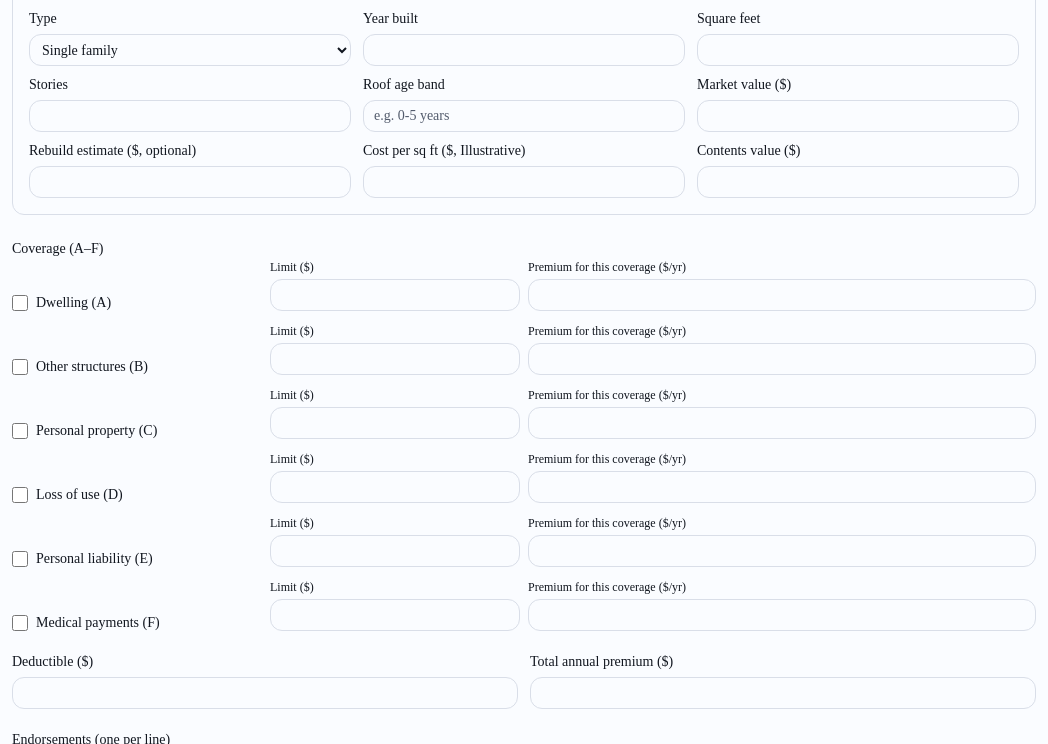
Test: HomeProfile › shows the market-value-vs-rebuild-cost note, hedged as a question for a professional (HOM-2)
In the number field labelled "Market value ($)": (858, 116) [697, 100, 1019, 132], type "600000"
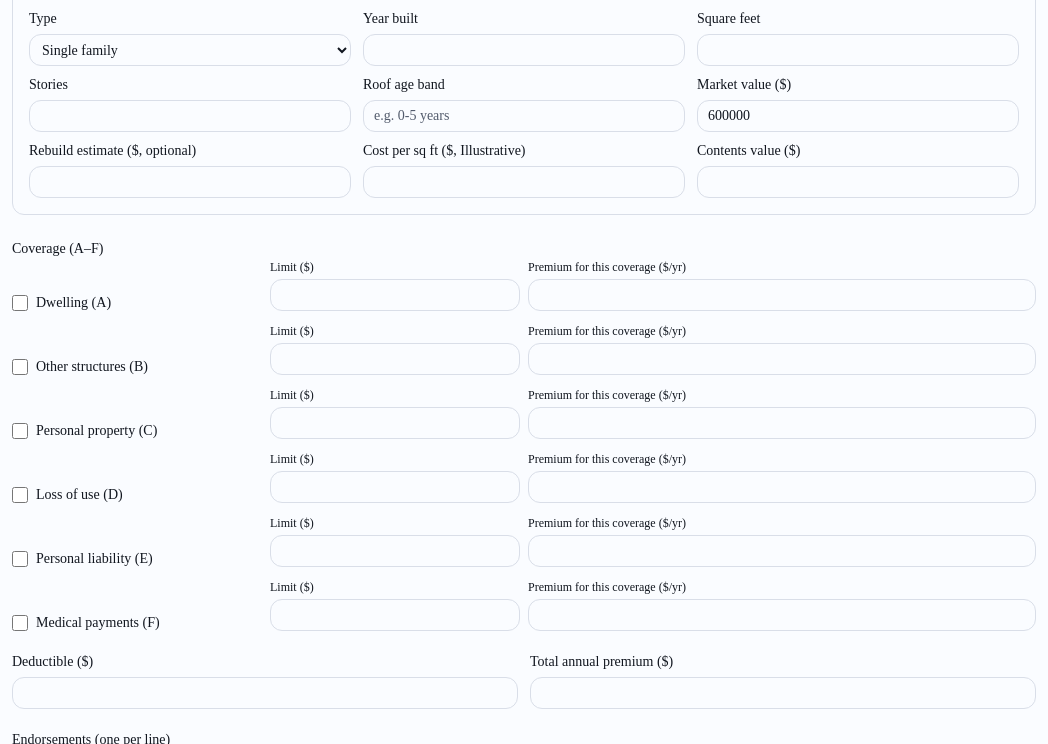
In the number field labelled "Rebuild estimate ($, optional)": (190, 182) [29, 166, 351, 198], type "700000"
(page scrolled)
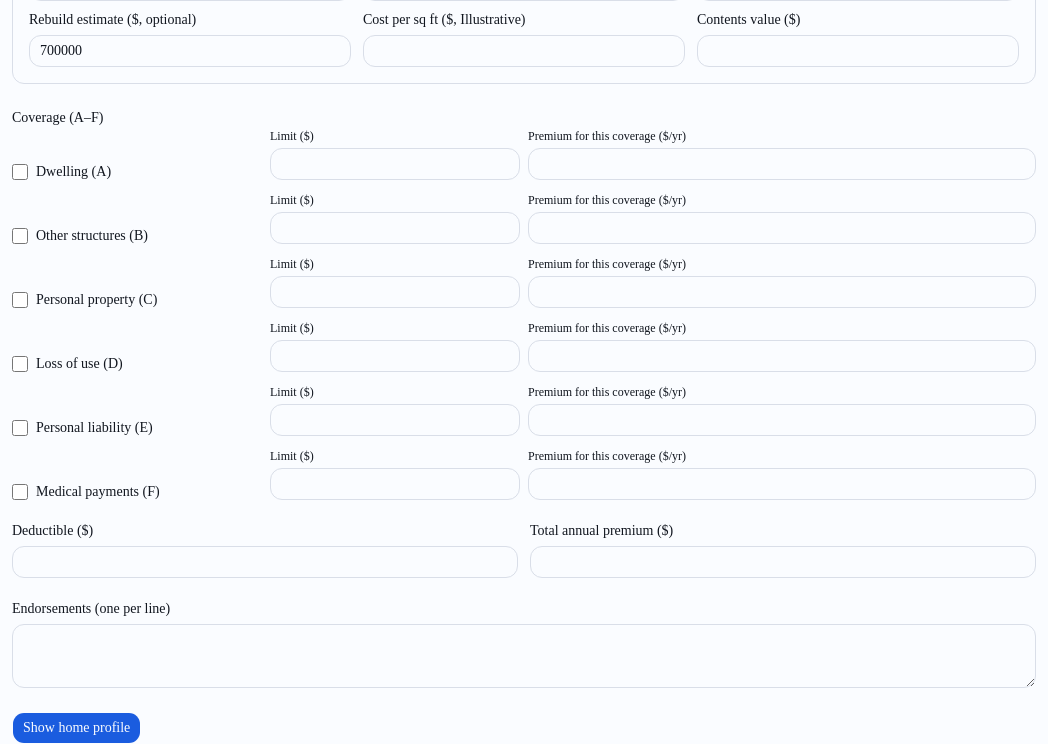
Click the button "Show home profile": (77, 728) [12, 712, 141, 743]
(page scrolled)
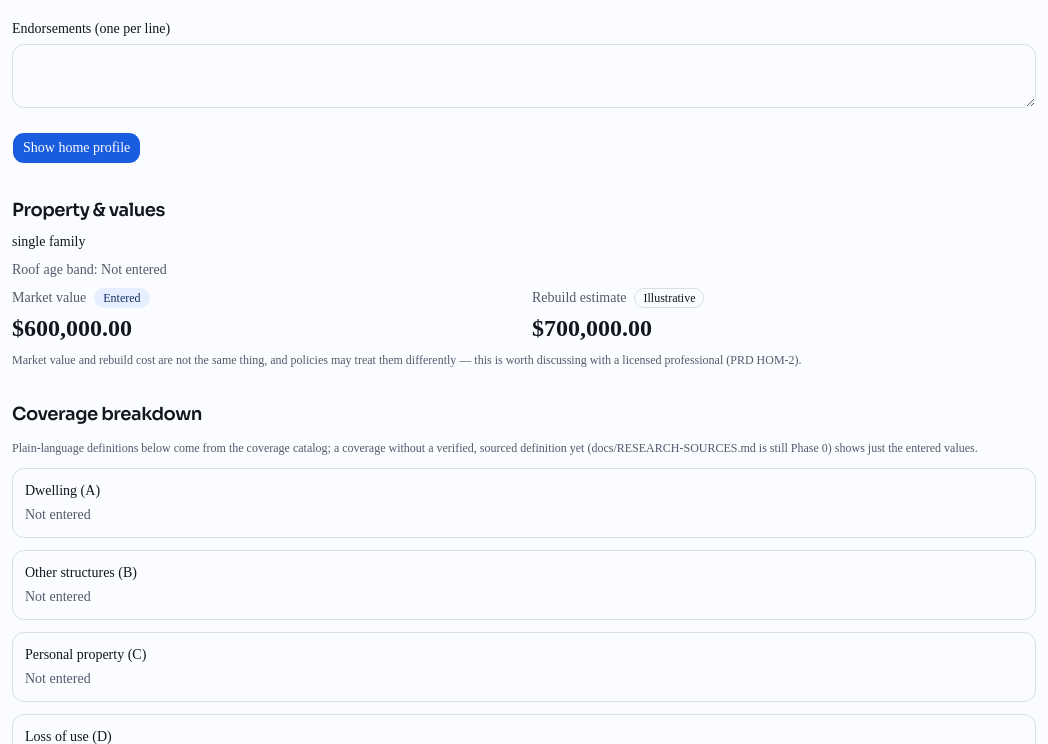
Now the text "licensed professional" is shown, box [12, 353, 802, 367]
